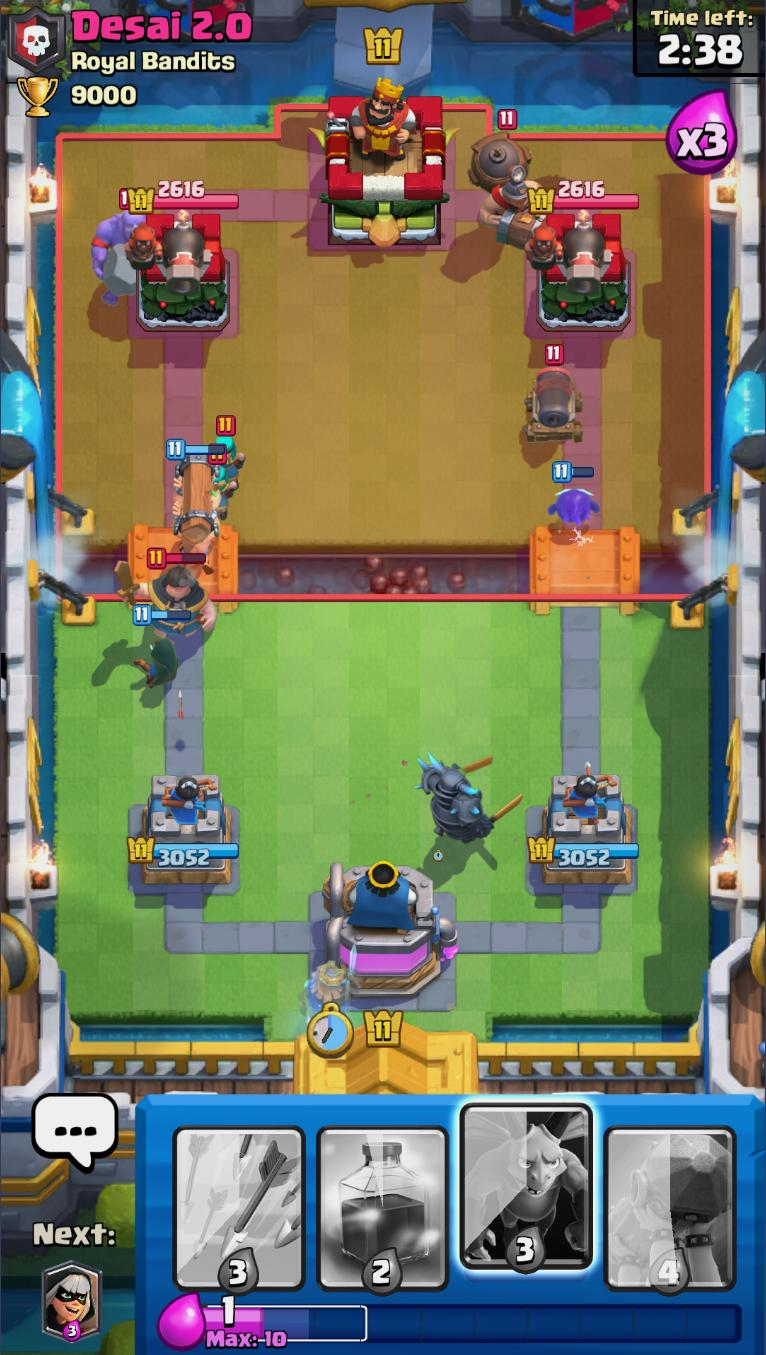ArrowDeck: (168, 1094, 311, 1295)
BanditNext: (40, 1264, 105, 1341)
Bowler: (91, 188, 148, 305)
CannonCart: (520, 344, 587, 444)
Cannoneer: (526, 212, 607, 298), (124, 214, 207, 297)
Elixir: (200, 1296, 745, 1350)
EnemyTower: (524, 209, 633, 333), (125, 207, 231, 332)
KingTower: (310, 81, 461, 249)
MightyMiner: (468, 110, 549, 250)
MinionsDeck: (456, 1095, 601, 1295)
MyBandit: (131, 604, 192, 695)
MyBattleRam: (600, 1095, 740, 1295), (165, 438, 225, 575)
MyElectroSpirit: (545, 461, 600, 523)
MyKingTower: (314, 855, 460, 1007)
MyPekka: (412, 751, 524, 844)
MyPrincessTower: (527, 770, 641, 886), (128, 773, 242, 888)
MyPrincessTowerHP: (127, 836, 240, 867), (527, 837, 640, 866)
MyRoyaleGhost: (302, 944, 358, 1022)
RageDeck: (310, 1094, 456, 1295)
RascalM: (115, 546, 219, 638)
RascalW: (207, 445, 241, 521), (207, 415, 248, 472)
TowerPrincessHP: (127, 178, 240, 212), (529, 179, 641, 211)
